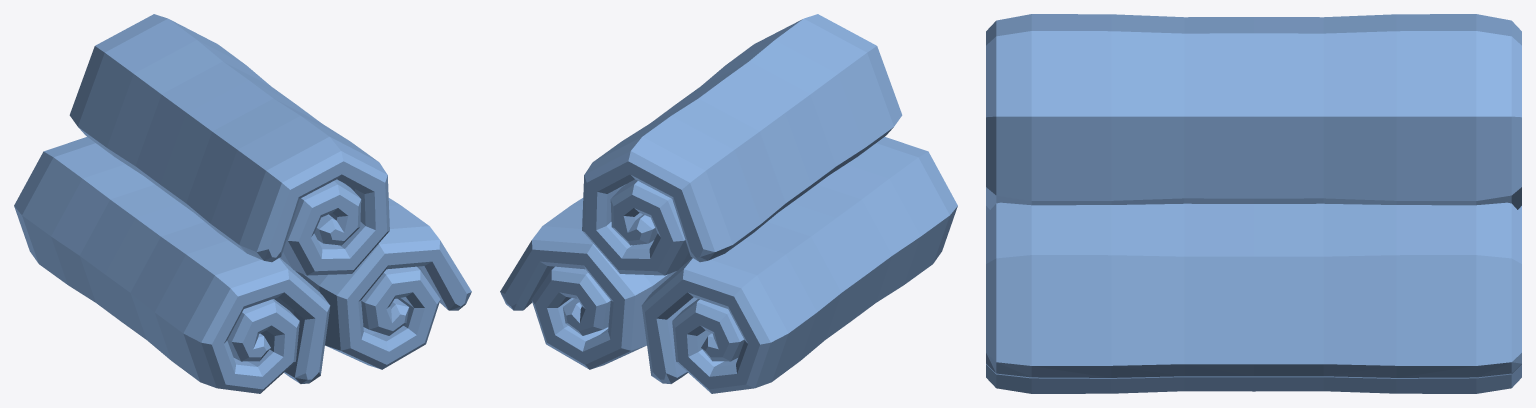
The picture shows the model from 3 angles, left to right: view 1: azimuth 30°, elevation 25°; view 2: azimuth 150°, elevation 25°; view 3: azimuth 270°, elevation 25°; orthographic projection. The views are drawn at different scales.
Parts seen in each view (by area): view 1: Towel; view 2: Towel; view 3: Towel.
Boxes of the visible parts, x1,y1,x2,y2 form: Towel: [14, 14, 471, 393]; Towel: [500, 14, 957, 393]; Towel: [986, 14, 1521, 393].
Bounding box in the file's own units: 64.04 × 51.9 × 76.92.
Materials: 1 (1 with a texture image).
